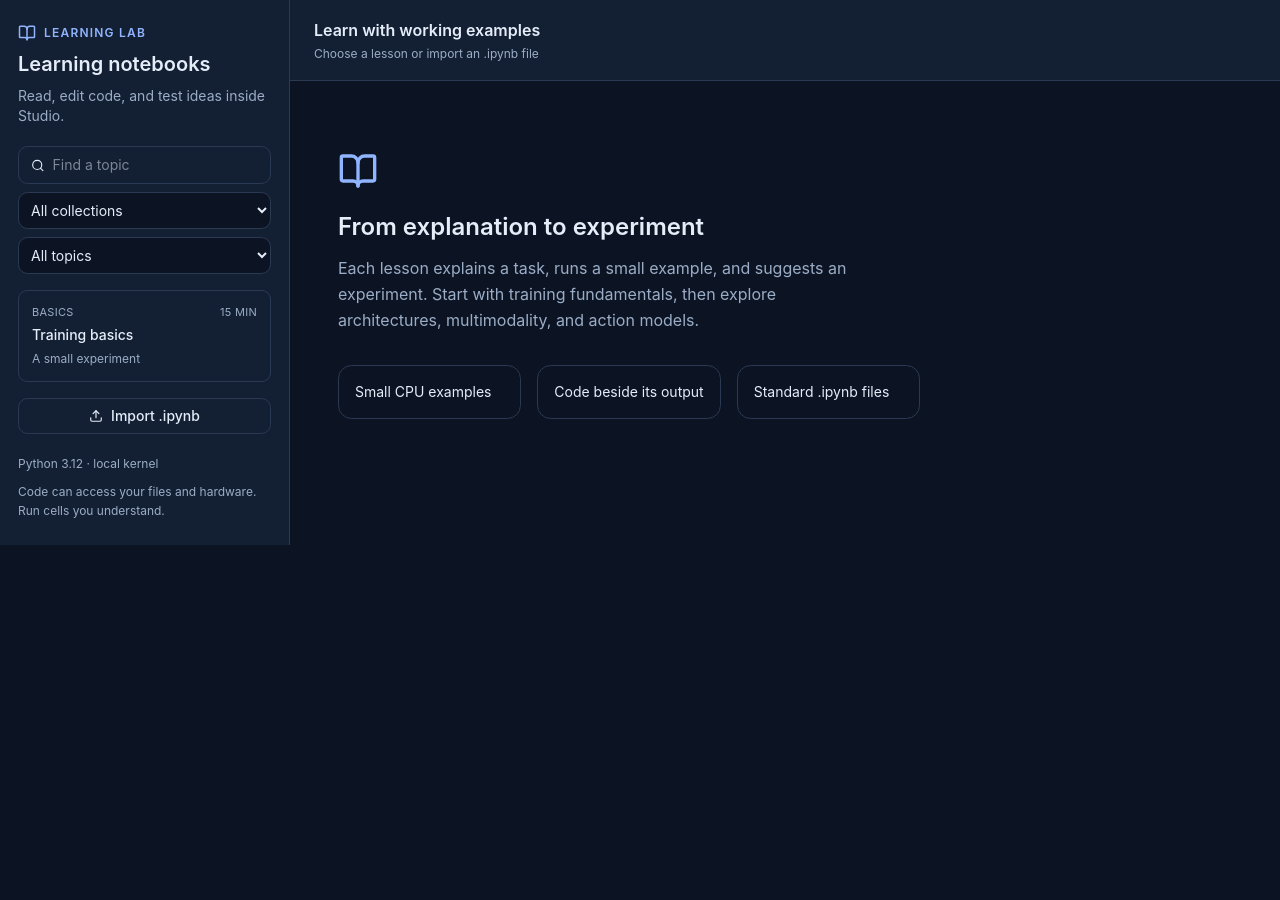
Test: runs cells through a persistent local kernel and stops run-all at the first error
The width and height of the screenshot is (1280, 900).
Click the text "Training basics" at [83, 334], box [32,326,133,342]
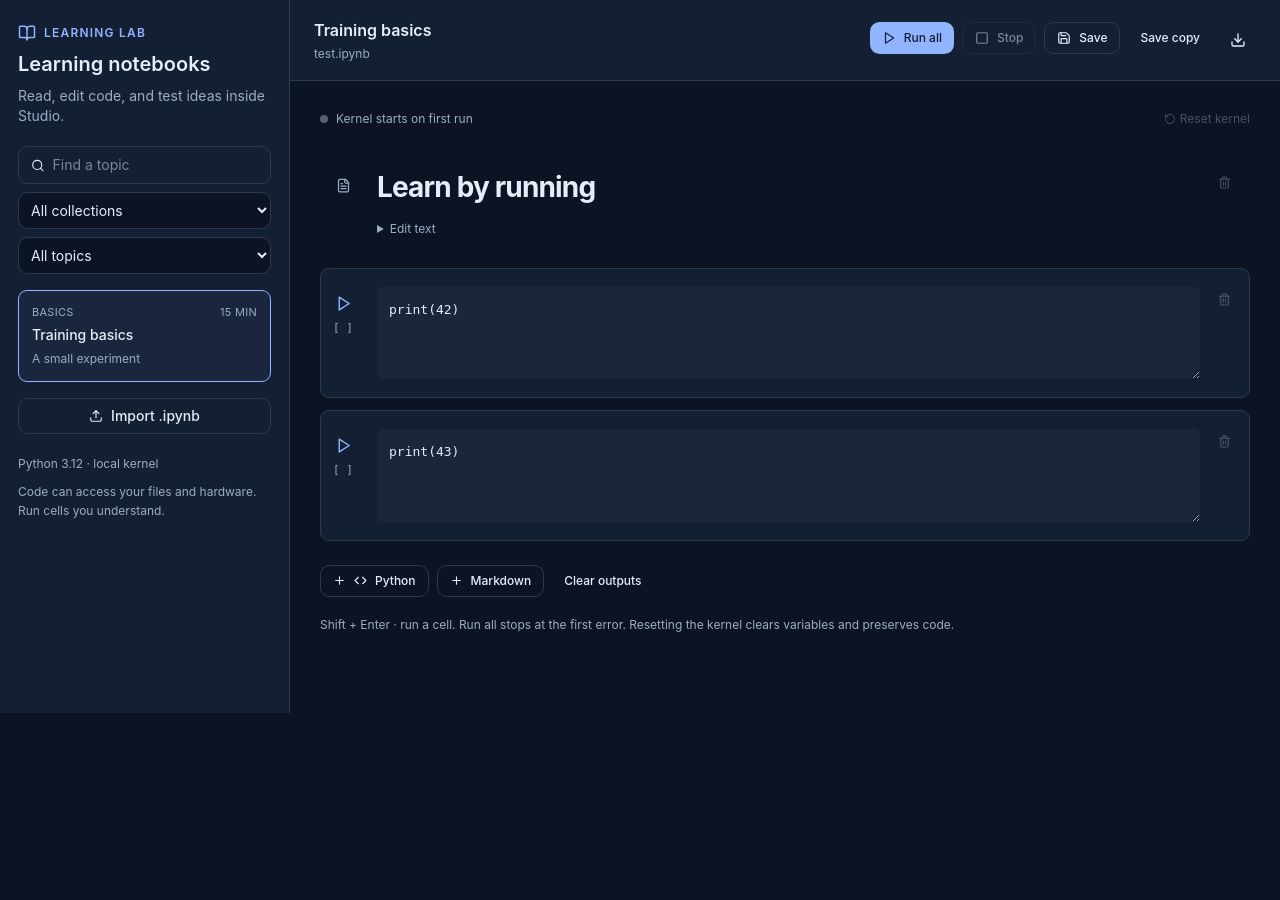
Check: the heading "Learn by running" is shown, box [377,170,595,204]
Click the button "Run all" at [912, 38], box [870,22,954,54]
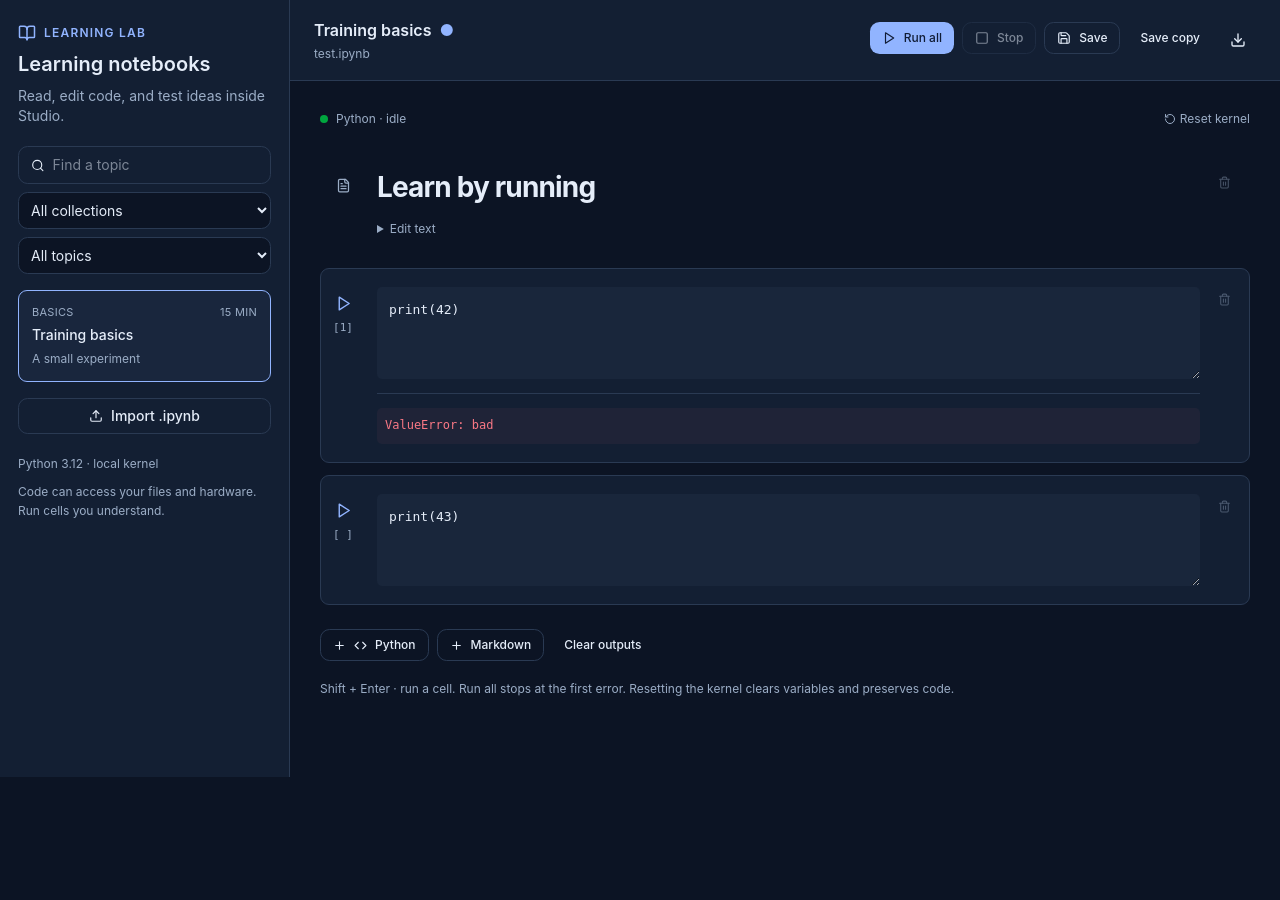
Check: the text "ValueError: bad" is shown, box [377,408,1200,444]
